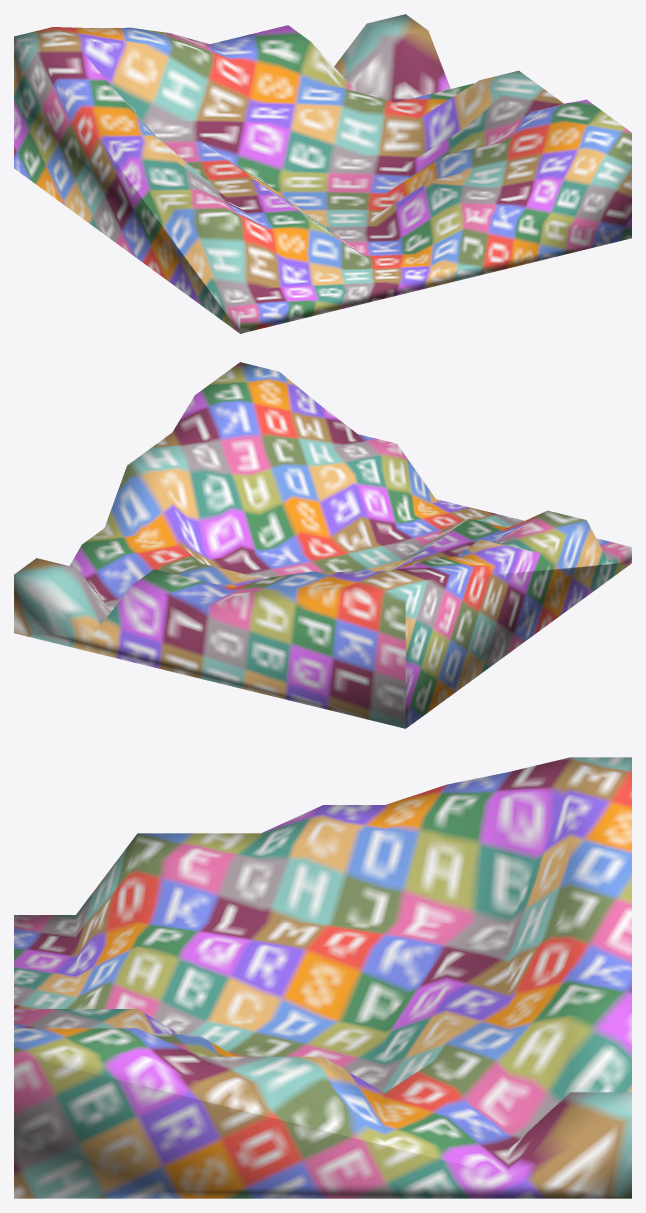
Rendered from weird_ground.dae.
3 views of the same model, one above another, from view 1: azimuth 30°, elevation 25°; view 2: azimuth 150°, elevation 25°; view 3: azimuth 270°, elevation 25° (orthographic). The views are drawn at different scales.
Parts seen in each view (by area): view 1: grid1-0; view 2: grid1-0; view 3: grid1-0.
Boxes of the visible parts, x1,y1,x2,y2 form: grid1-0: (14, 14, 631, 333); grid1-0: (14, 362, 631, 728); grid1-0: (14, 757, 631, 1198).
Bounding box in the file's own units: 5 × 1.61 × 5.
